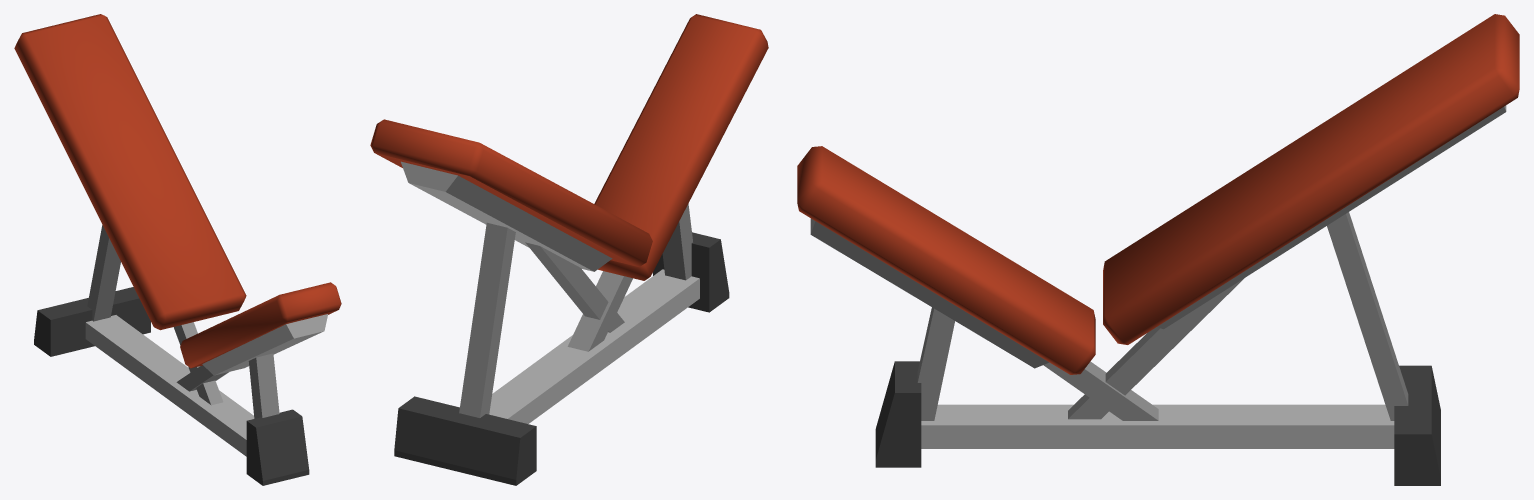
Rendered from bench_4.glb.
The picture shows the model from 3 angles, left to right: view 1: azimuth 30°, elevation 25°; view 2: azimuth 150°, elevation 25°; view 3: azimuth 270°, elevation 25°; orthographic projection. The views are drawn at different scales.
Visible parts, largest first — view 1: Bench_D; view 2: Bench_D; view 3: Bench_D.
Part boxes in pixels (x1,y1,x2,y2): Bench_D: (14, 14, 341, 485); Bench_D: (370, 14, 768, 485); Bench_D: (797, 14, 1519, 485).
Size of the model in its own units: 0.4028 by 1.13 by 1.8.
Materials: 1 (1 with a texture image).
